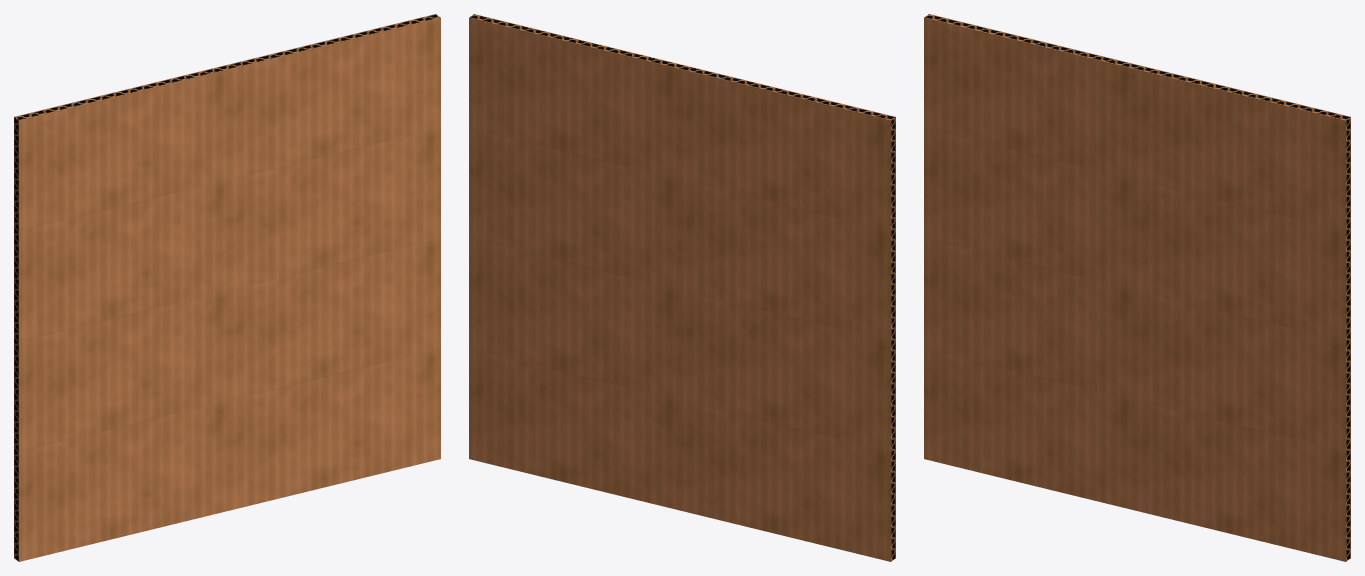
The model's file is M_Cardboard_Flat.fbx.
3 views of the same model, side by side, from view 1: azimuth 30°, elevation 25°; view 2: azimuth 150°, elevation 25°; view 3: azimuth 330°, elevation 25° (orthographic).
Parts seen in each view (by area): view 1: Panel_Front (×4), Edge_Top, Edge_Left (×4); view 2: Panel_Back (×4), Edge_Top, Edge_Left (×4); view 3: Panel_Front (×4), Edge_Top, Edge_Right (×4).
Part boxes in pixels (bbox=[...]): Panel_Front (×4): bbox=[19, 17, 440, 561]; Edge_Top: bbox=[14, 14, 440, 120]; Edge_Left (×4): bbox=[14, 117, 18, 561]; Panel_Back (×4): bbox=[469, 17, 890, 561]; Edge_Top: bbox=[469, 14, 895, 120]; Edge_Left (×4): bbox=[891, 117, 895, 561]; Panel_Front (×4): bbox=[924, 17, 1345, 561]; Edge_Top: bbox=[924, 14, 1350, 120]; Edge_Right (×4): bbox=[1346, 117, 1350, 561].
Size of the model in its own units: 12 by 12 by 0.25.
